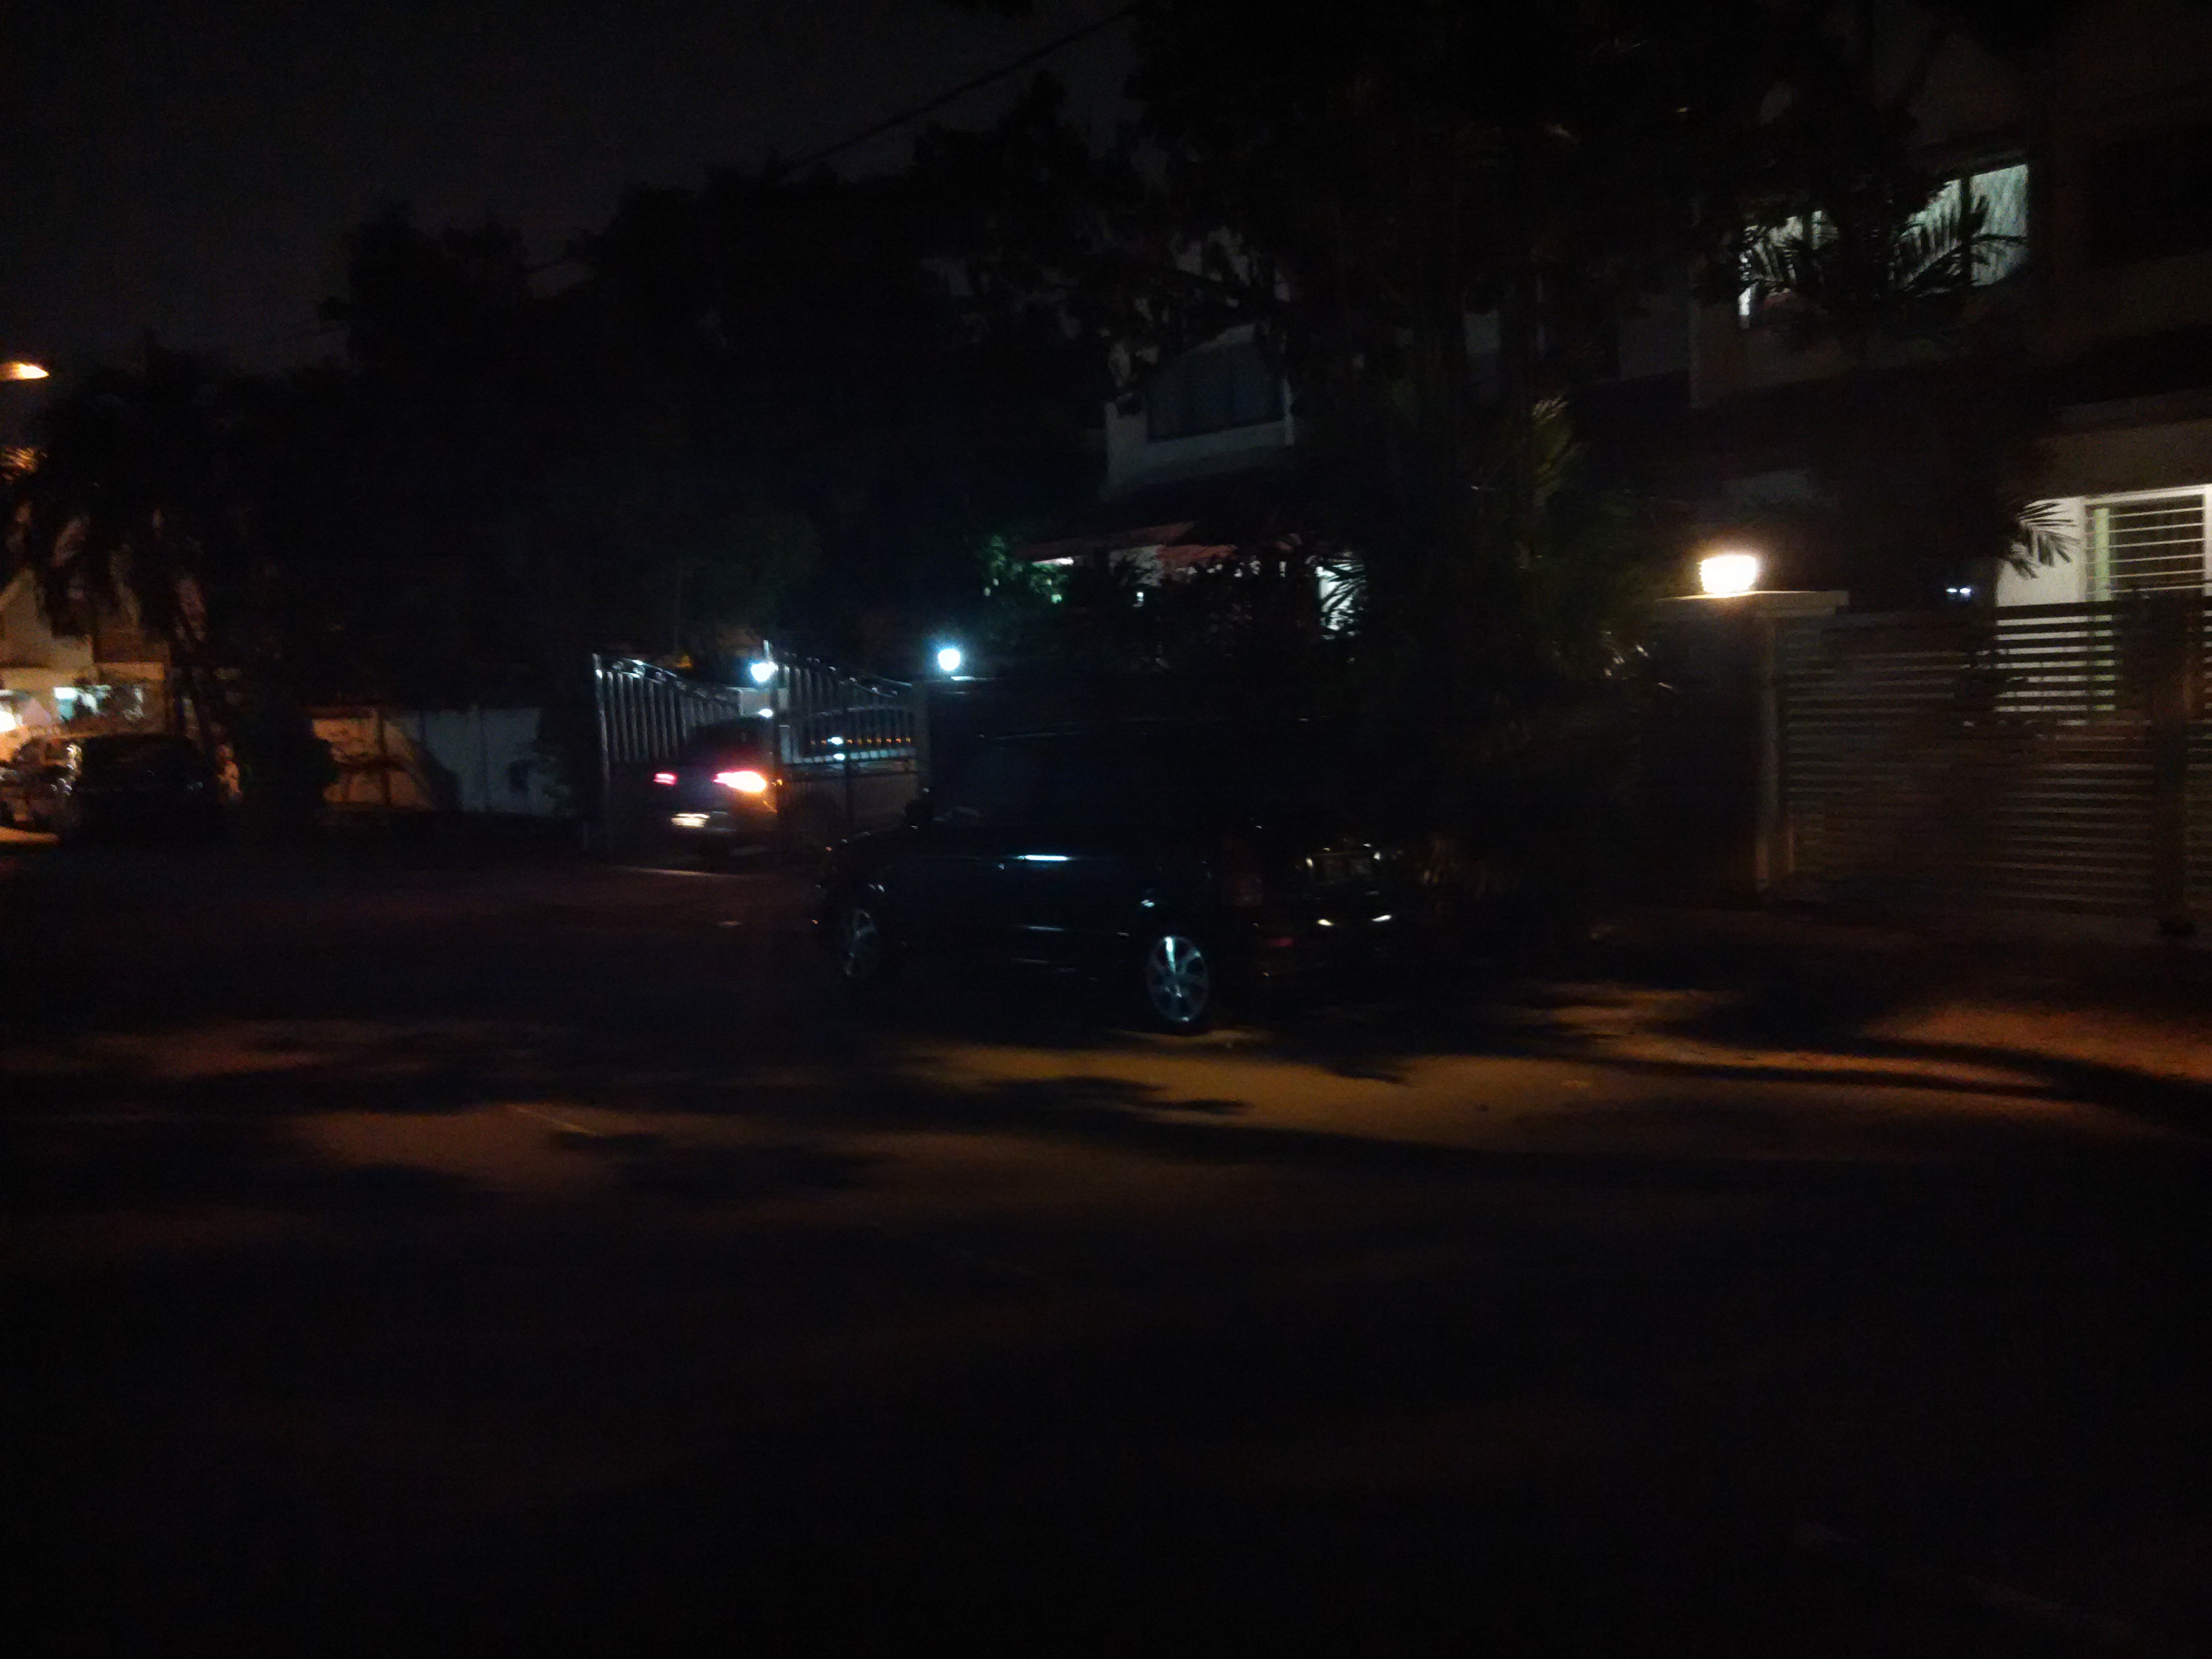car: (636, 671, 948, 863)
